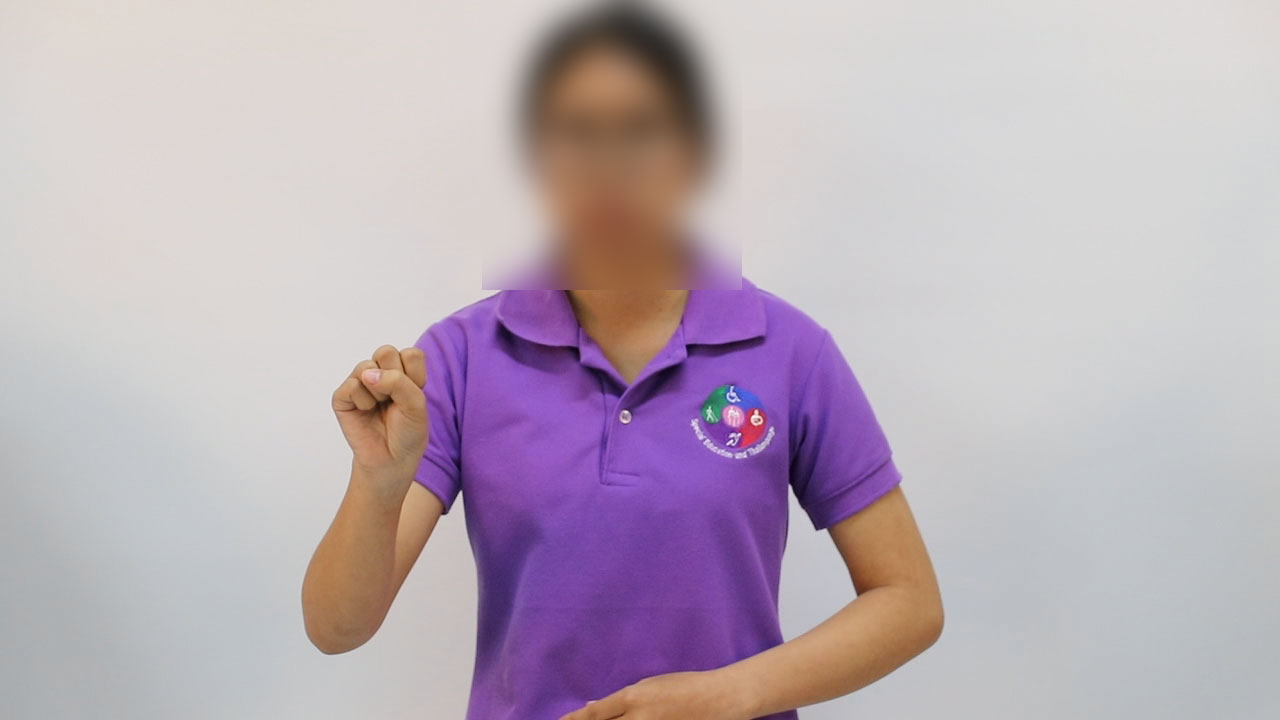sor: (319, 335, 447, 504)
